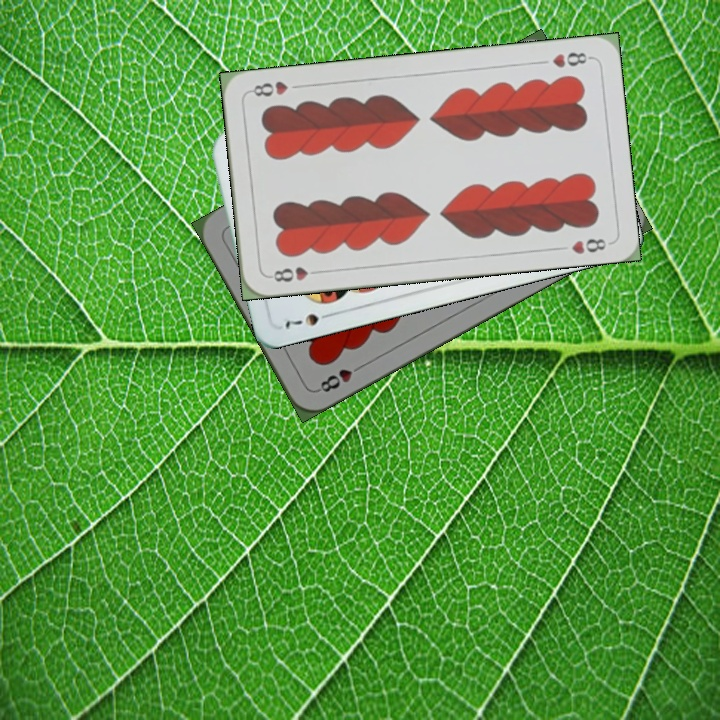H8: (312, 360, 367, 395), (265, 262, 324, 285), (548, 48, 594, 71)
S7: (281, 308, 336, 332)
